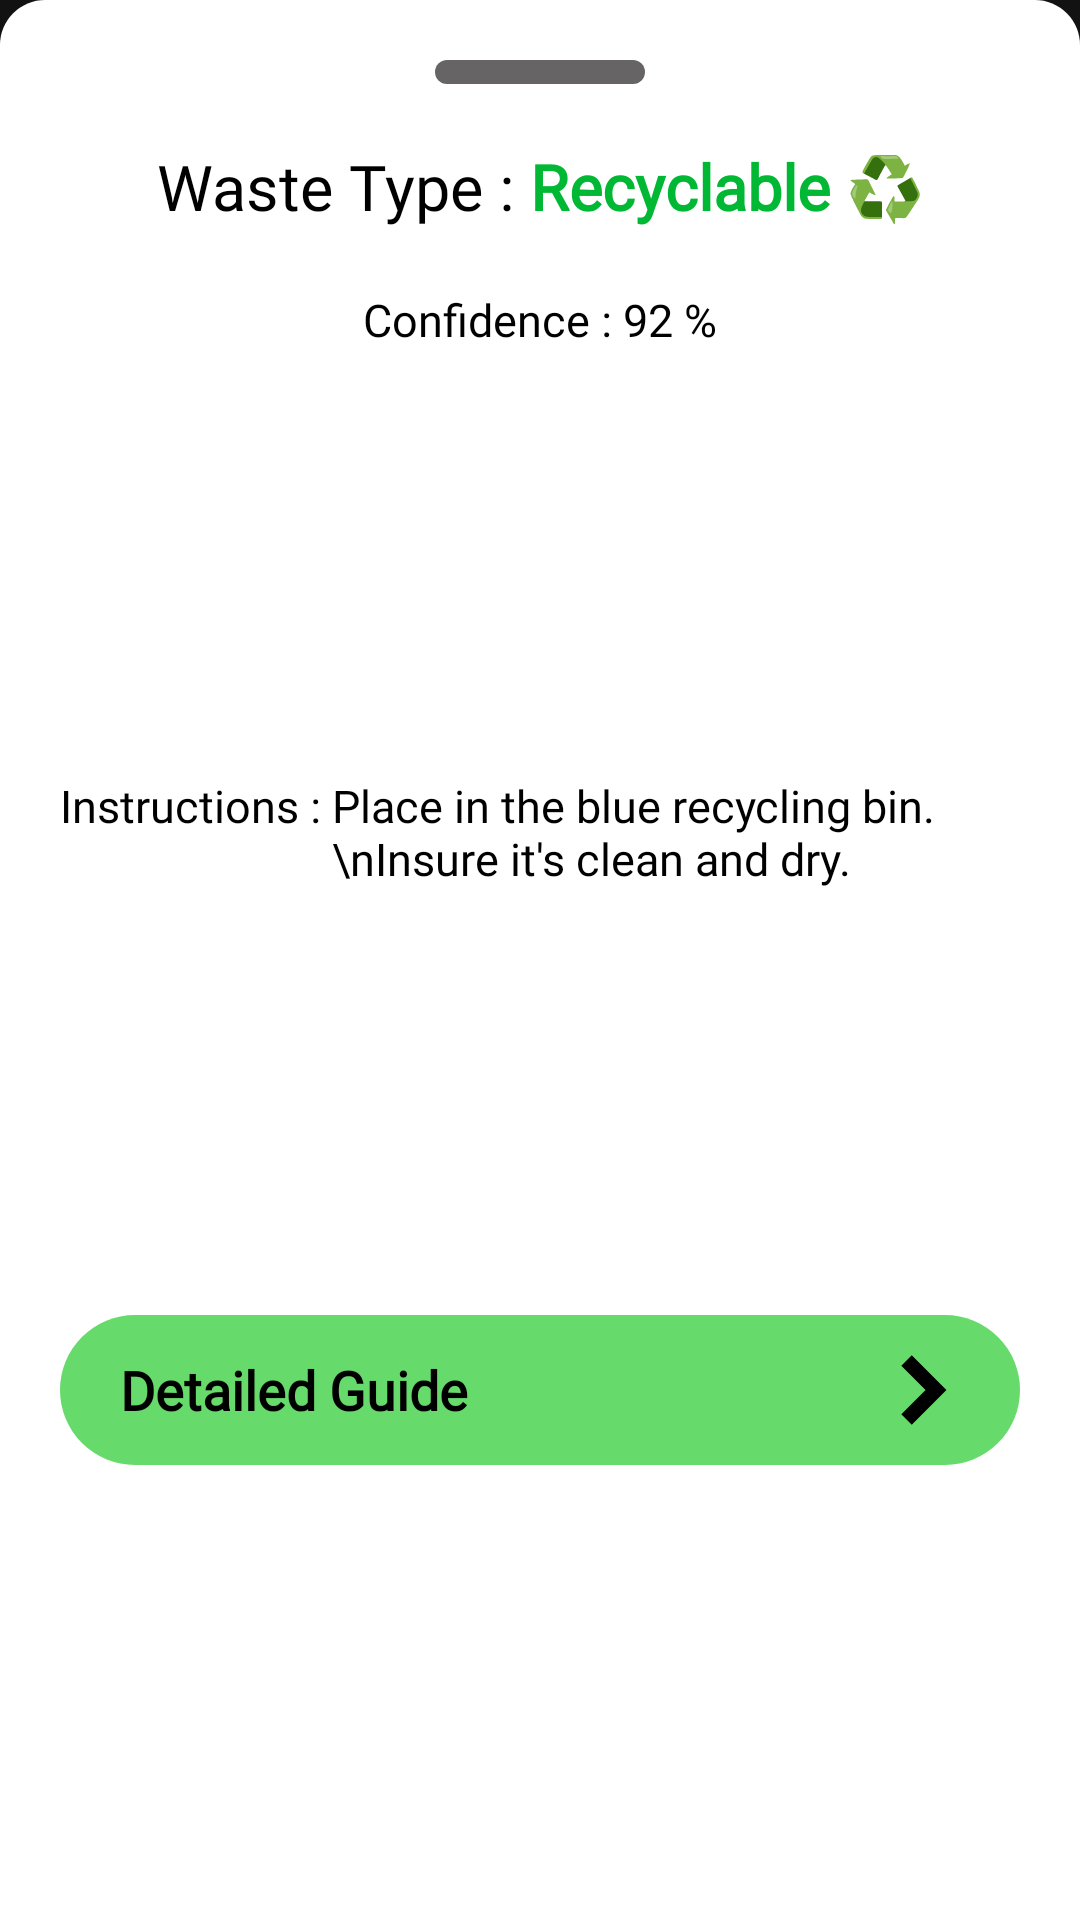

Where icons sit on this 1080x1920 app screen, as bbox(x1, y1, x2, y2):
arrow right: bbox(901, 1355, 946, 1425)
